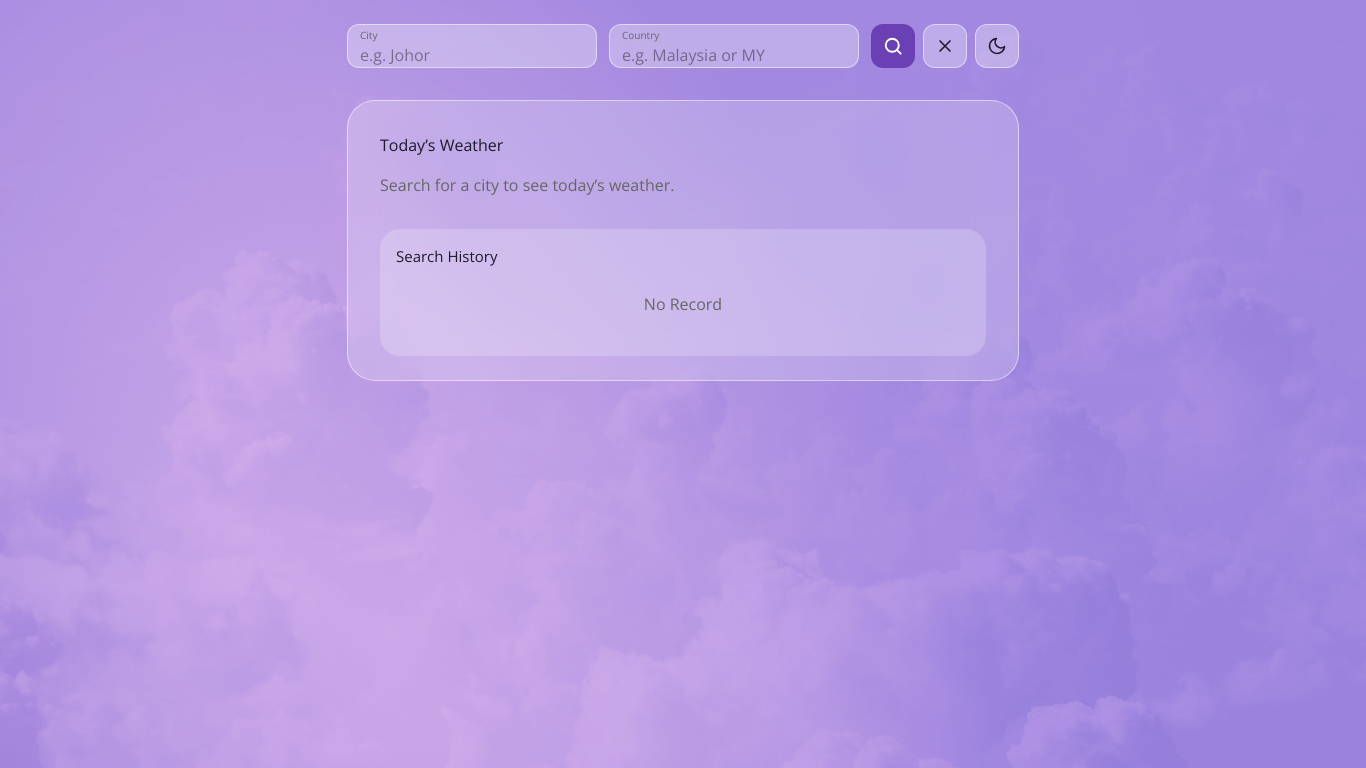
Test: App › searches a whole country when only the country is filled in
Type "indonesia" into the field labelled "Country" at (734, 53), box [622,40,846,67]
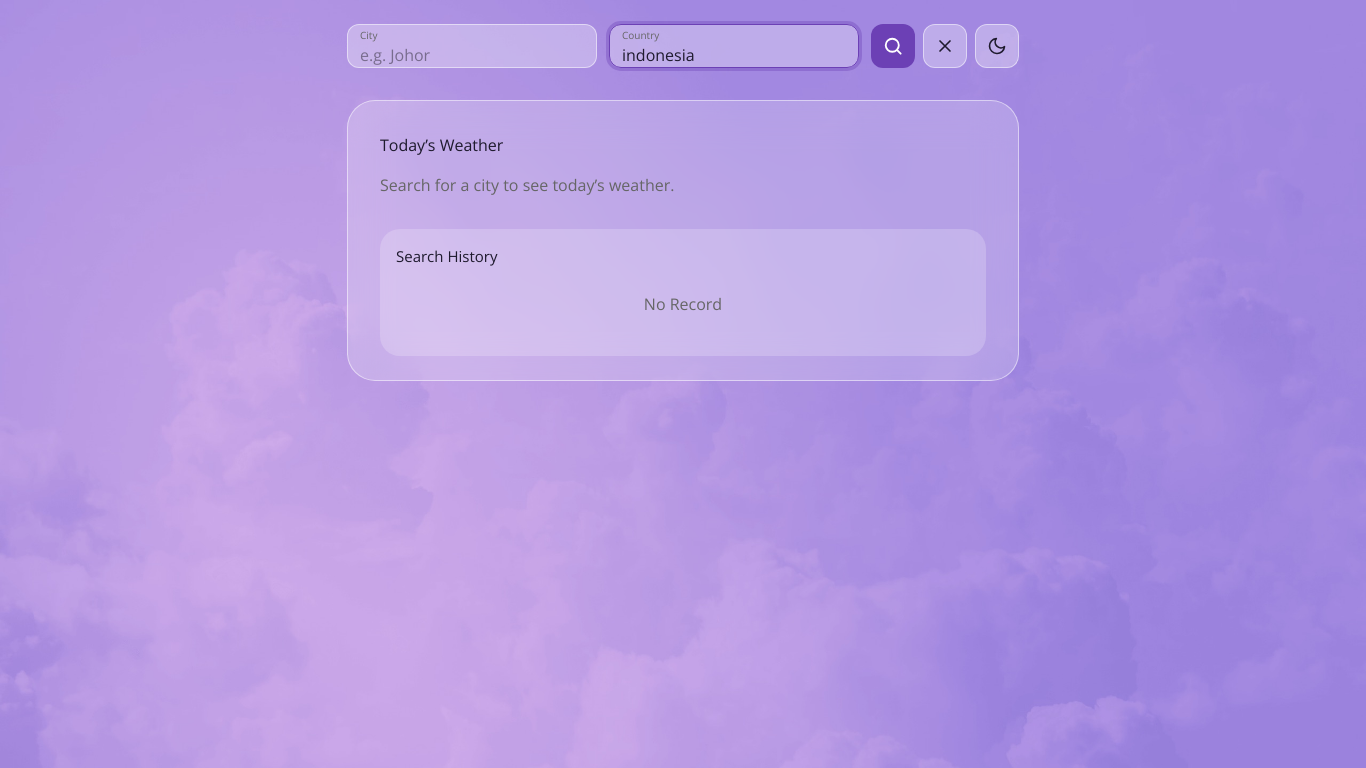
Click the button named "Search" at (893, 46), box [871,24,915,68]
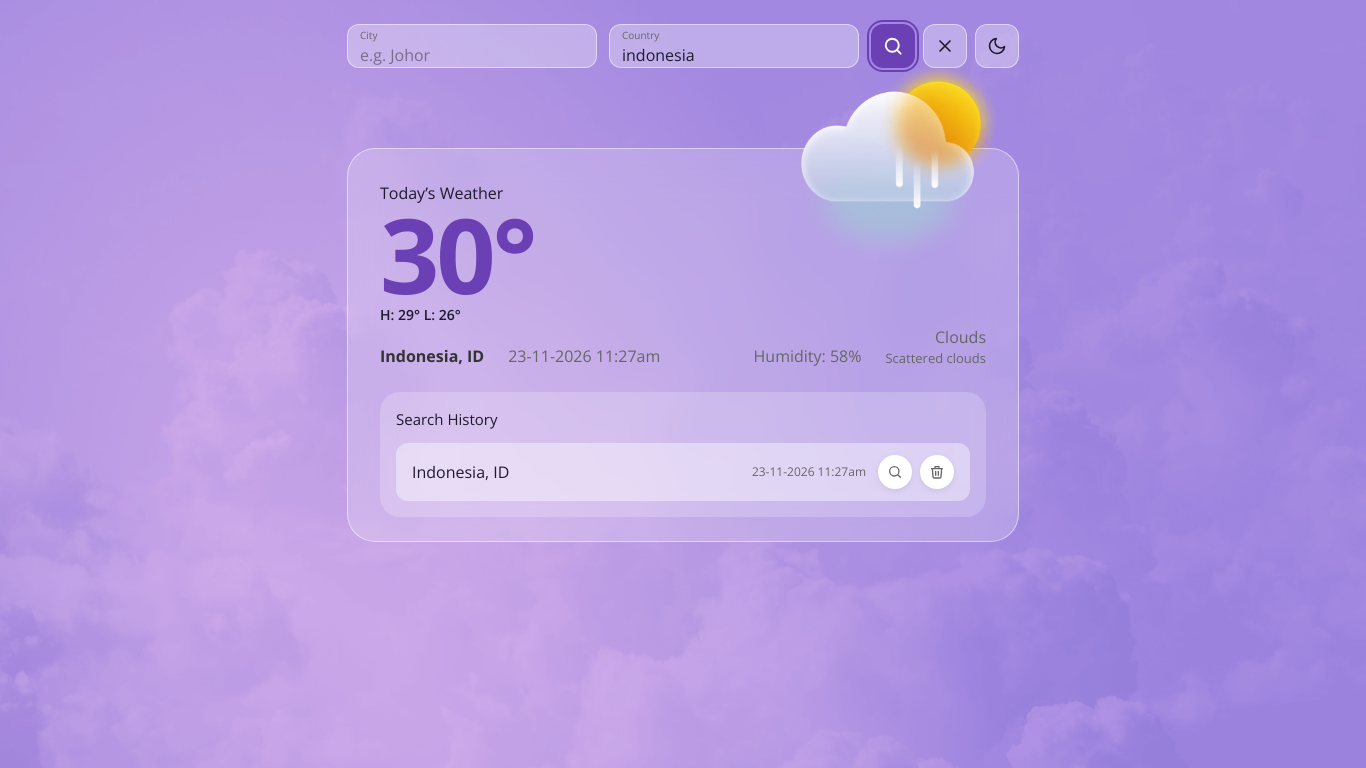
Check: the text "30°" is shown, box [380,182,596,324]
Check: the text "Indonesia, ID" below "Search History" is shown, box [412,461,509,483]
